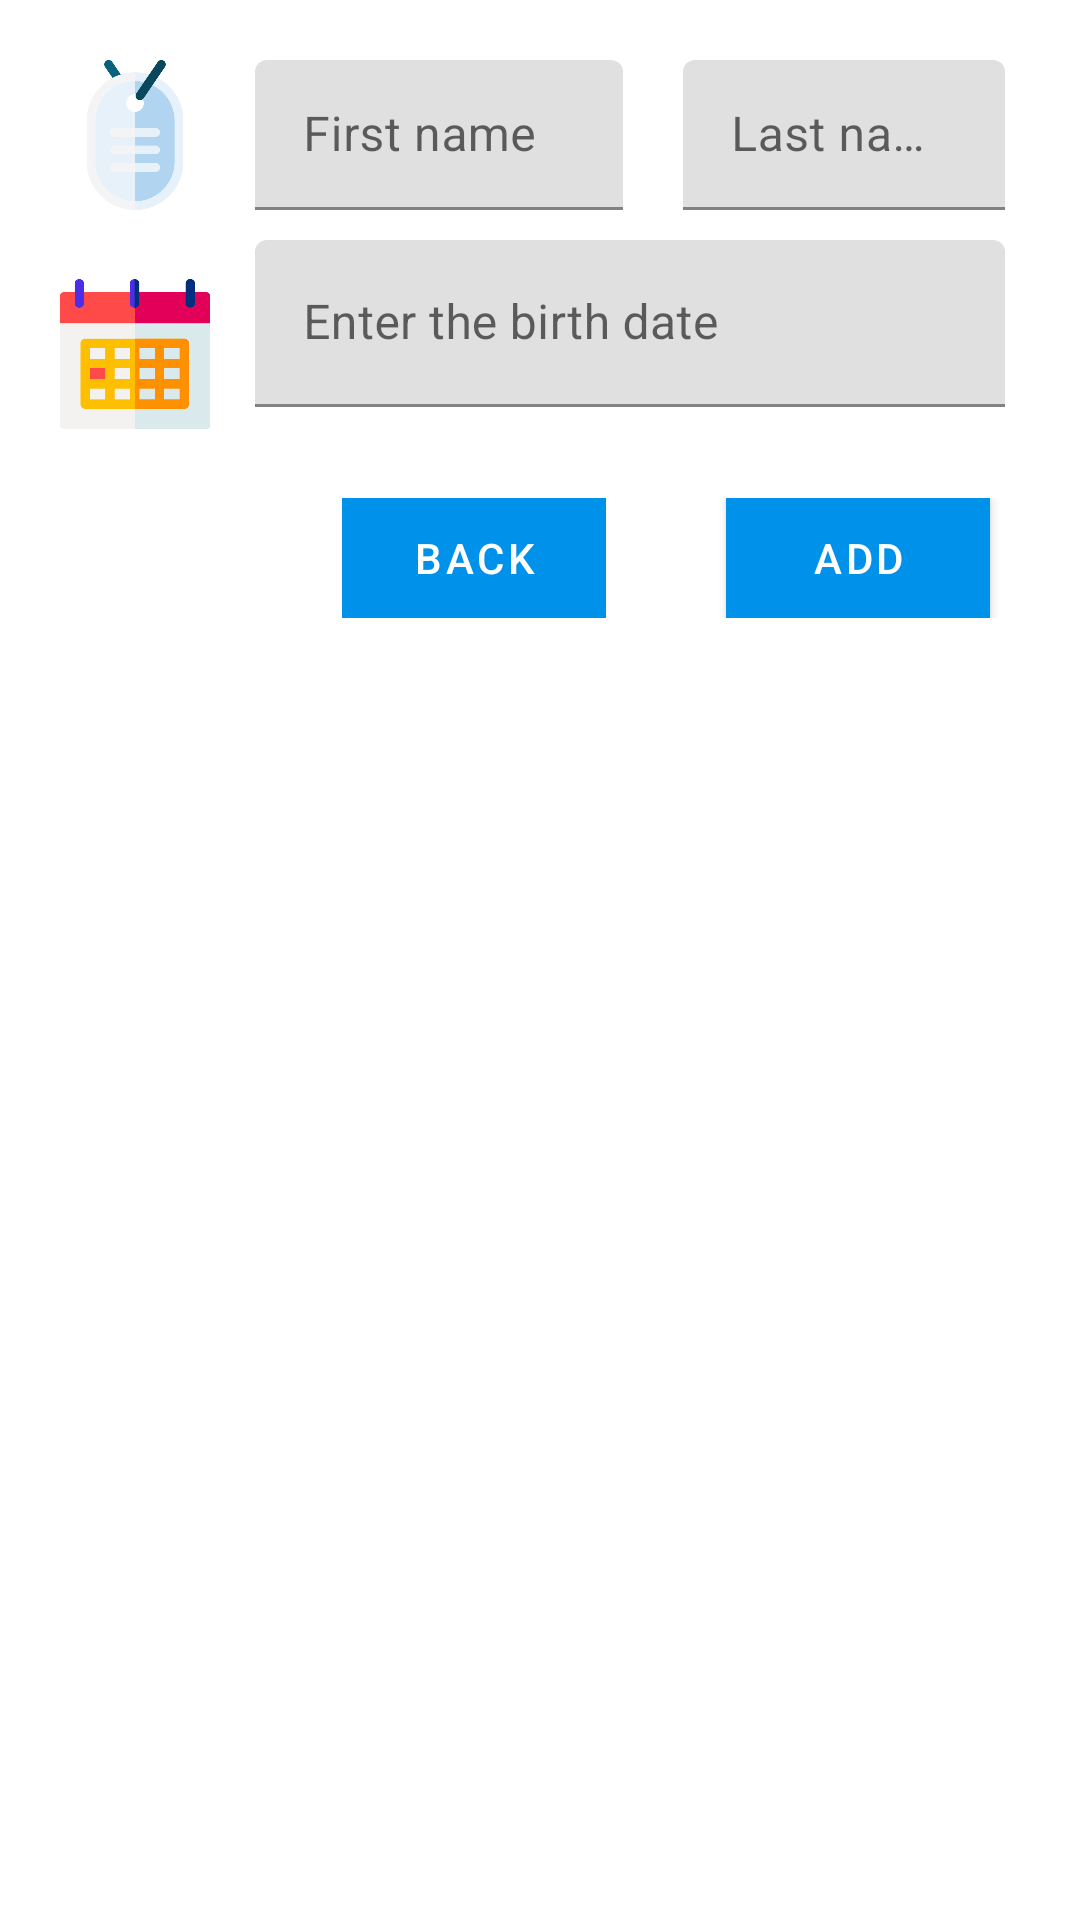

Point at icon controls on the screen. Image size 1080*1920, points as (x,y).
im calendar manager: (135,354)
im name: (135,135)
